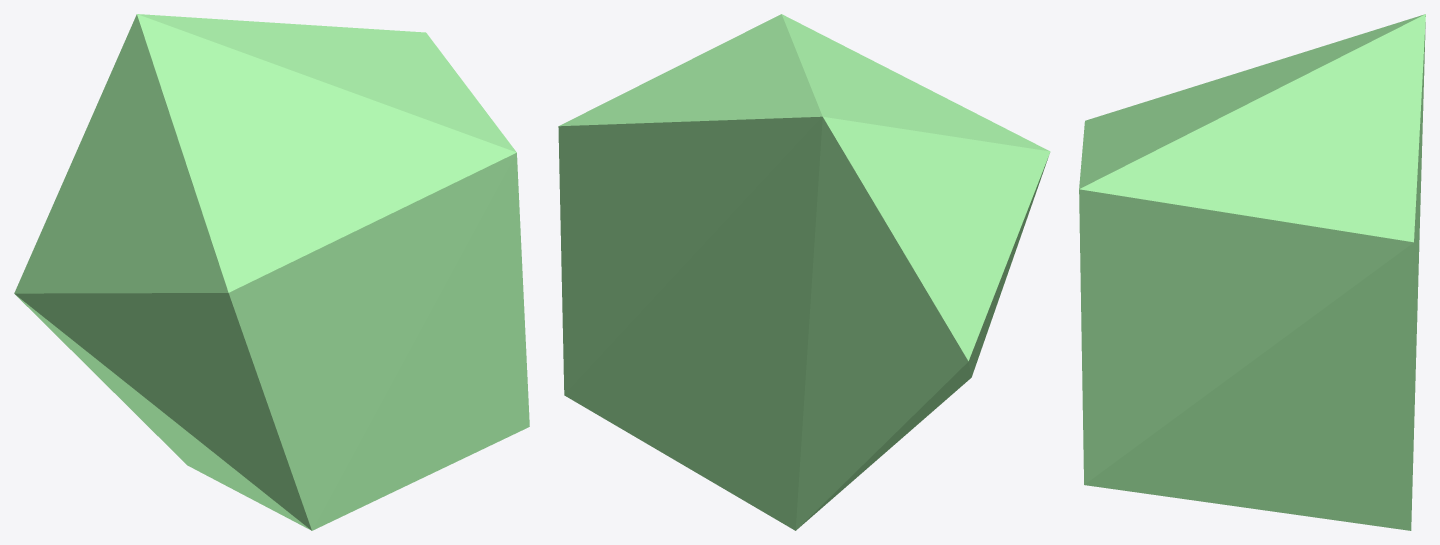
File: linkhou_LR4_R560_link5_respondable_coll_12.dae
3 views of the same model, side by side, from view 1: azimuth 30°, elevation 25°; view 2: azimuth 150°, elevation 25°; view 3: azimuth 270°, elevation 25° (orthographic). The views are drawn at different scales.
Visible parts, largest first — view 1: Node_00000298084313B0; view 2: Node_00000298084313B0; view 3: Node_00000298084313B0.
Part boxes in pixels (x1,y1,x2,y2): Node_00000298084313B0: (14,14,529,530); Node_00000298084313B0: (558,14,1050,530); Node_00000298084313B0: (1079,14,1425,530).
Size of the model in its own units: 0.0155 by 0.0159 by 0.0107.
